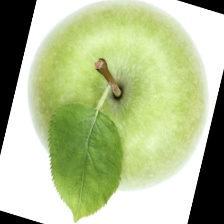apple: (27, 38, 199, 175)
